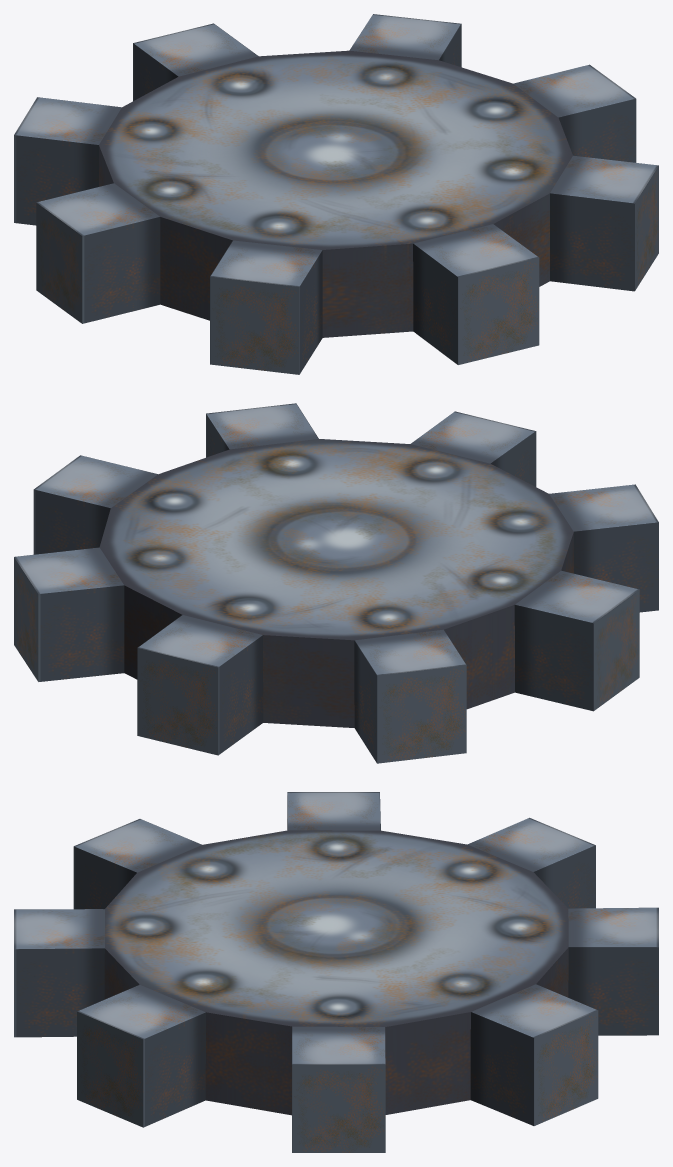
File: gear.fbx
The picture shows the model from 3 angles, top to bottom: view 1: azimuth 30°, elevation 25°; view 2: azimuth 150°, elevation 25°; view 3: azimuth 270°, elevation 25°; orthographic projection.
Parts seen in each view (by area): view 1: gearHead; view 2: gearHead; view 3: gearHead.
Boxes of the visible parts, x1,y1,x2,y2 form: gearHead: (14, 14, 658, 374); gearHead: (14, 403, 658, 763); gearHead: (14, 792, 658, 1152).
Size of the model in its own units: 2 by 0.3053 by 2.
Materials: 3 (2 with a texture image).
